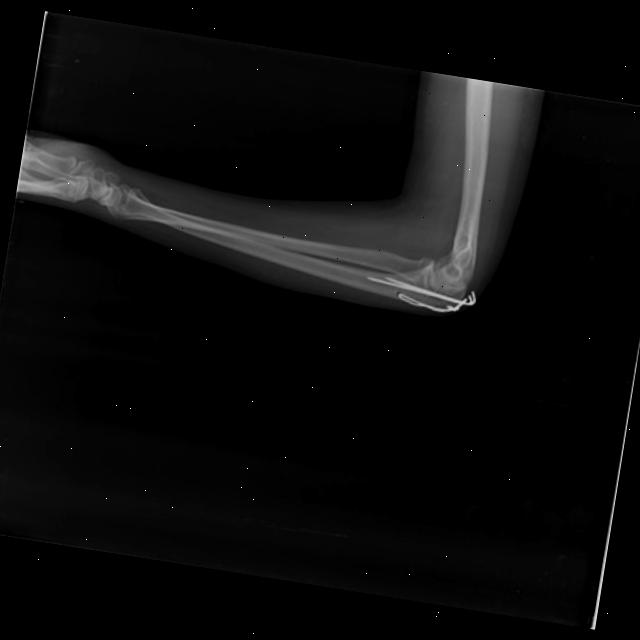fractured: (392, 260, 477, 315)
